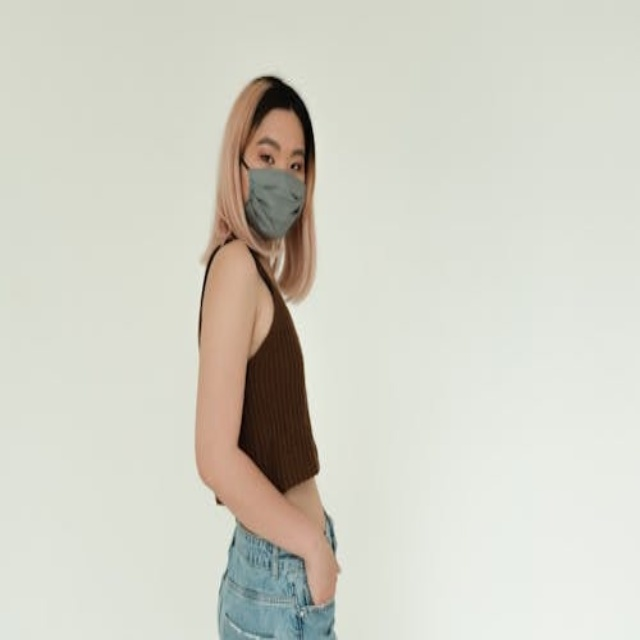Mascara: (241, 161, 305, 239)
Sin_gafas: (248, 134, 310, 174)
